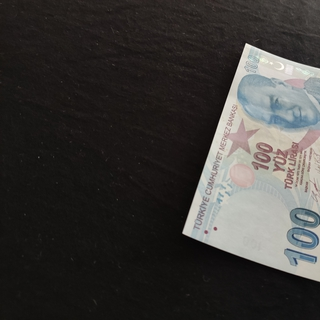100TLFront: (181, 42, 320, 283)
